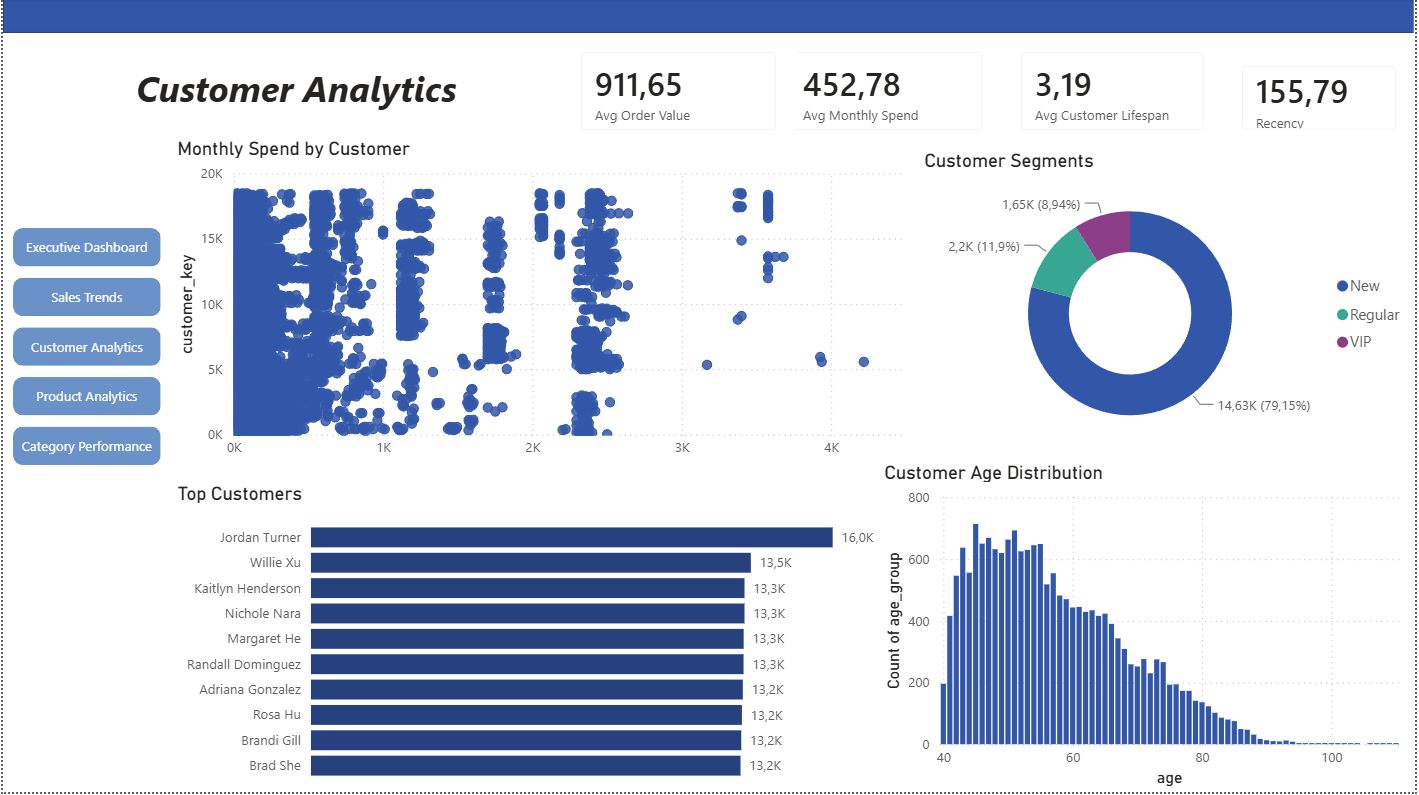

What the dashboard file says about the page in this screenshot:
{"tool":"powerbi","page":{"name":"Customer Analytics","canvas":[1280,720],"ordinal":2},"visuals":[{"type":"cardVisual","fields":{"Data":["Avg(gold report_customers.lifespan)"]},"box":[905.9,31.7,200.4,105.2],"z":0},{"type":"donutChart","title":"Customer Segments ","fields":{"Category":["gold report_customers.customer_segment"],"Y":["CountNonNull(gold report_customers.customer_segment)"]},"box":[830.6,136.9,449.8,279.3],"z":1000},{"type":"barChart","title":"Top Customers","fields":{"Y":["select","Sum(gold report_customers.total_sales)"],"Category":["gold report_customers.customer_name"]},"box":[153.2,438.9,641.1,281.1],"z":2000},{"type":"textbox","box":[0,54.4,532.3,59.8],"z":3000},{"type":"cardVisual","fields":{"Data":["Avg(gold report_customers.avg_monthly_spend)"]},"box":[695.5,31.7,210.4,105.2],"z":4000},{"type":"cardVisual","fields":{"Data":["Avg(gold report_customers.avg_order_value)"]},"box":[506.9,31.7,211.3,105.2],"z":5000},{"type":"cardVisual","fields":{"Data":["Avg(gold report_customers.recency)"]},"box":[1106.3,44.4,174.1,92.5],"z":6000},{"type":"scatterChart","title":"Monthly Spend by Customer","fields":{"X":["Avg(gold report_customers.avg_monthly_spend)"],"Y":["gold report_customers.customer_key"]},"box":[153.2,126,677.4,300.2],"z":7000},{"type":"clusteredColumnChart","title":"Customer Age Distribution","fields":{"Category":["gold report_customers.age"],"Y":["CountNonNull(gold report_customers.age_group)"]},"box":[794.4,419.8,485.1,300.2],"z":8000},{"type":"shape","box":[0,0,1279.5,31.7],"z":9000},{"type":"pageNavigator","box":[9.1,208.6,134.2,217.6],"z":10000}]}

Visuals, with their boxes in screenshot pixels (x1, y1, x2, y2), scaled from the page's 1280x720 canvas onto the 1419x795 screenshot:
cardVisual - Avg(gold report_customers.lifespan): bbox=(1004, 35, 1226, 151)
"Customer Segments " donutChart: bbox=(921, 151, 1418, 460)
"Top Customers" barChart: bbox=(170, 485, 881, 794)
textbox: bbox=(0, 60, 590, 126)
cardVisual - Avg(gold report_customers.avg_monthly_spend): bbox=(771, 35, 1004, 151)
cardVisual - Avg(gold report_customers.avg_order_value): bbox=(562, 35, 796, 151)
cardVisual - Avg(gold report_customers.recency): bbox=(1226, 49, 1418, 151)
"Monthly Spend by Customer" scatterChart: bbox=(170, 139, 921, 471)
"Customer Age Distribution" clusteredColumnChart: bbox=(881, 464, 1418, 794)
shape: bbox=(0, 0, 1418, 35)
pageNavigator: bbox=(10, 230, 159, 471)
